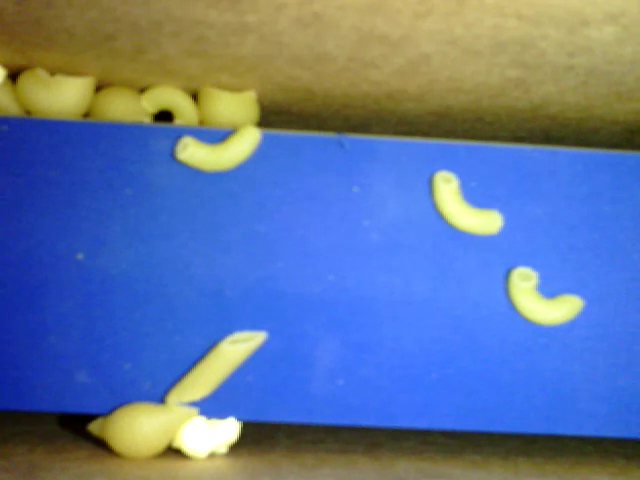elbow: (507, 264, 585, 327), (430, 170, 504, 236), (173, 122, 262, 174), (141, 82, 198, 127)
penne: (167, 329, 267, 402)
shell: (88, 397, 201, 459), (12, 66, 98, 118), (193, 82, 261, 127), (90, 83, 151, 124)
